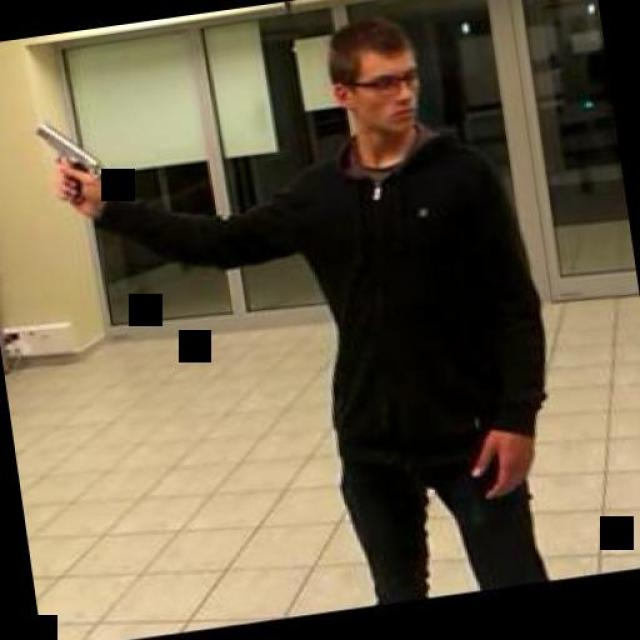gun: (30, 110, 115, 211)
